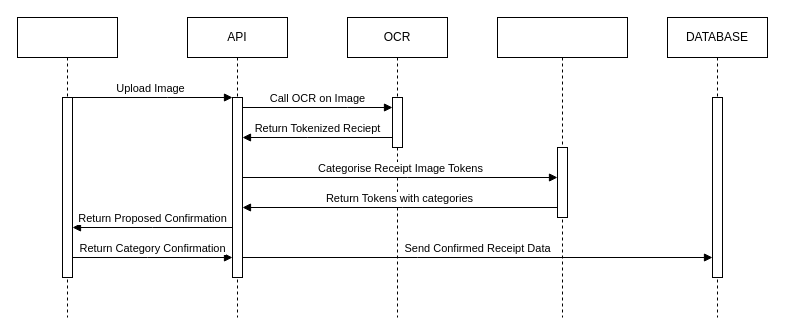
Image size: 785x335. Some labels were removed from this diagram. Each missing label, with the box of its shape:
APP: (16, 16, 118, 318)
CATEGORISATION: (496, 16, 628, 318)
